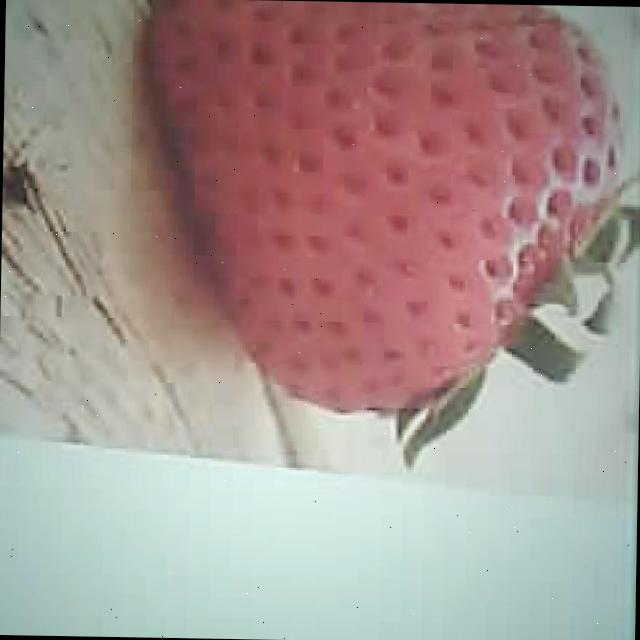strawberry: (140, 0, 622, 419)
